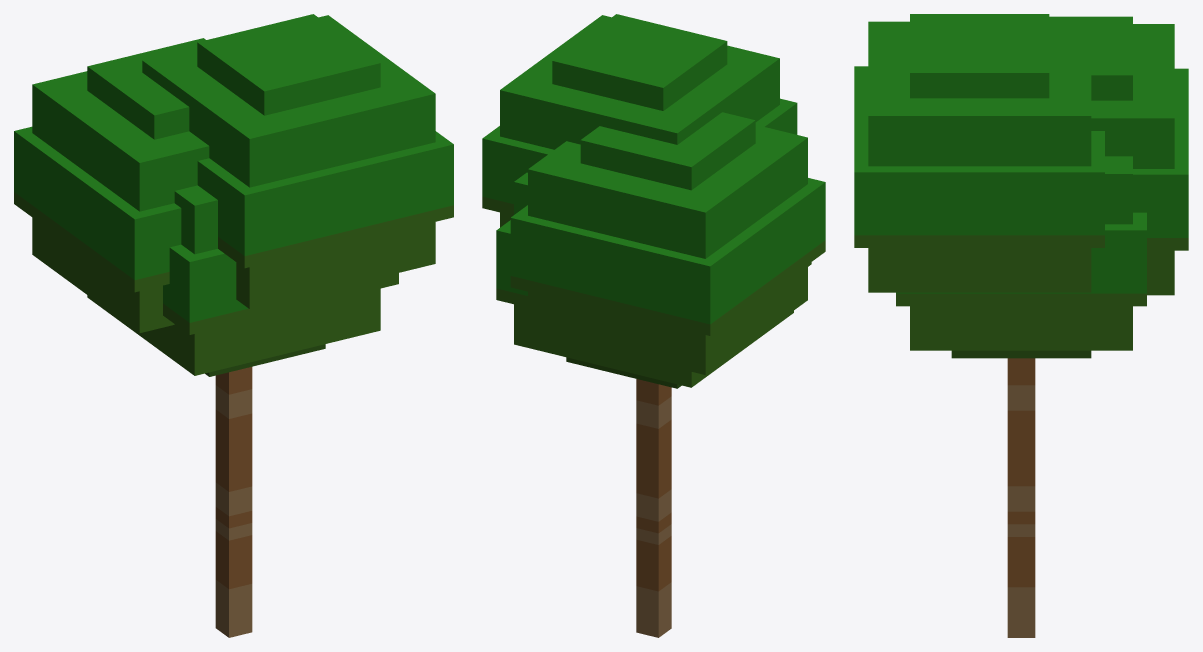
The model's file is Boom4.fbx.
3 renders of one model, left to right at view 1: azimuth 30°, elevation 25°; view 2: azimuth 150°, elevation 25°; view 3: azimuth 270°, elevation 25°, orthographic. The views are drawn at different scales.
Visible parts, largest first — view 1: Boom4:Boom4; view 2: Boom4:Boom4; view 3: Boom4:Boom4.
Boxes of the visible parts, bbox=[...] form: Boom4:Boom4: bbox=[14, 14, 453, 637]; Boom4:Boom4: bbox=[482, 14, 825, 637]; Boom4:Boom4: bbox=[854, 14, 1188, 637].
Bounding box in the file's own units: 24 × 48 × 24.
Materials: 1 (1 with a texture image).
